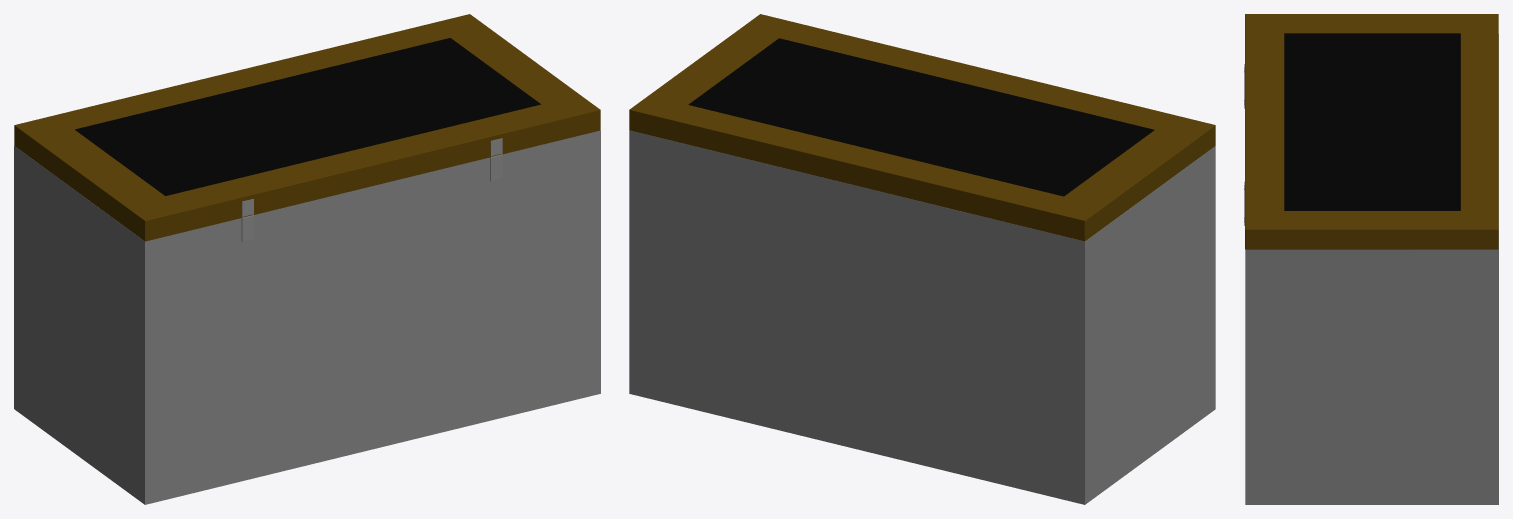
The model's file is HorizontalFridge.fbx.
The picture shows the model from 3 angles, left to right: view 1: azimuth 30°, elevation 25°; view 2: azimuth 150°, elevation 25°; view 3: azimuth 270°, elevation 25°; orthographic projection. The views are drawn at different scales.
Parts seen in each view (by area): view 1: HorizontalFridgeBase, HorizontalFridgeDoor; view 2: HorizontalFridgeBase, HorizontalFridgeDoor; view 3: HorizontalFridgeBase, HorizontalFridgeDoor.
Part boxes in pixels (x1,y1,x2,y2): HorizontalFridgeBase: (14, 130, 600, 504); HorizontalFridgeDoor: (14, 14, 600, 241); HorizontalFridgeBase: (629, 130, 1215, 504); HorizontalFridgeDoor: (629, 14, 1215, 241); HorizontalFridgeBase: (1244, 34, 1498, 504); HorizontalFridgeDoor: (1245, 14, 1498, 249).
Bounding box in the file's own units: 240 × 143 × 120.
